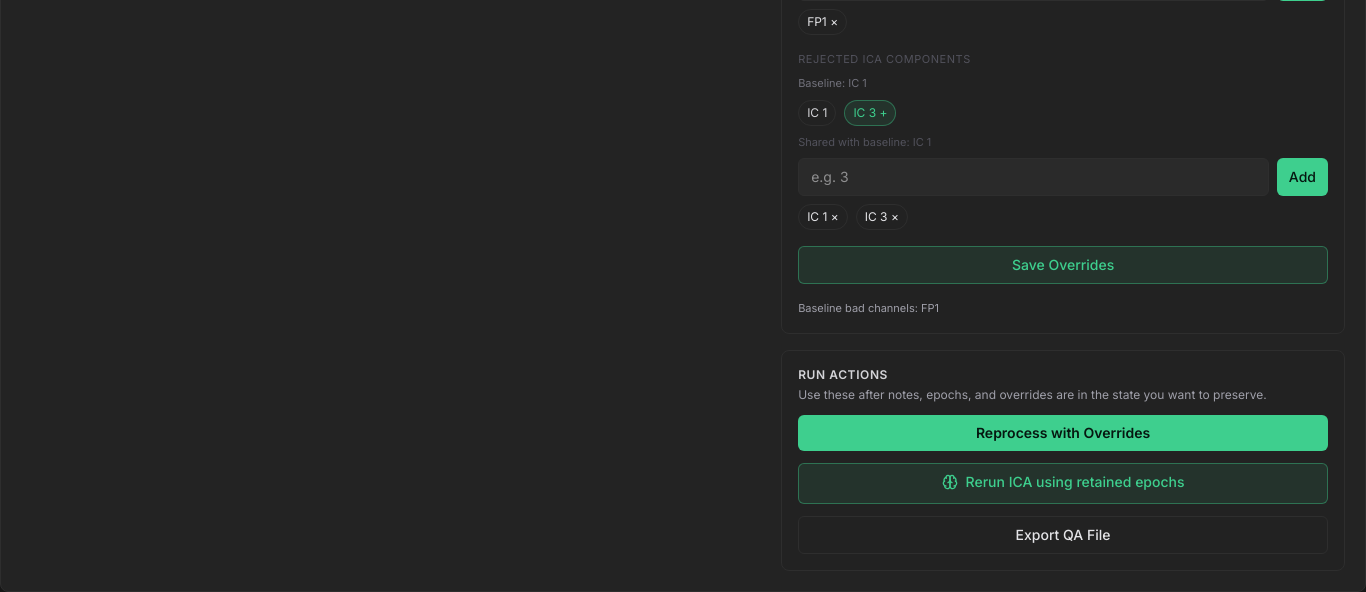
ExcludePage › shows reprocess status updates
(page scrolled)
Expected: the button "FP1 ×" is shown, [798,8,847,34]
Step 1. Click the button "Reprocess with Overrides" → (1063, 432), box [798,414,1328,450]
(page scrolled)
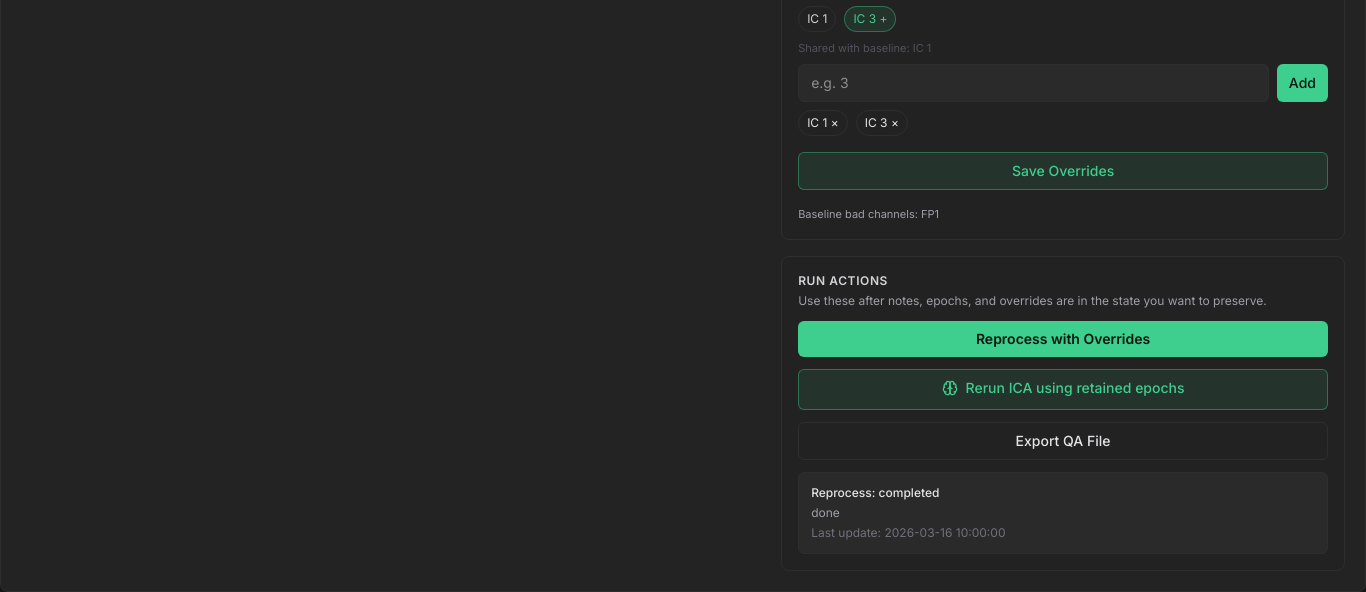
Result: the text "Reprocess: completed" is shown at [811,484,939,500]
Result: the text "done" is shown at [811,504,840,520]
